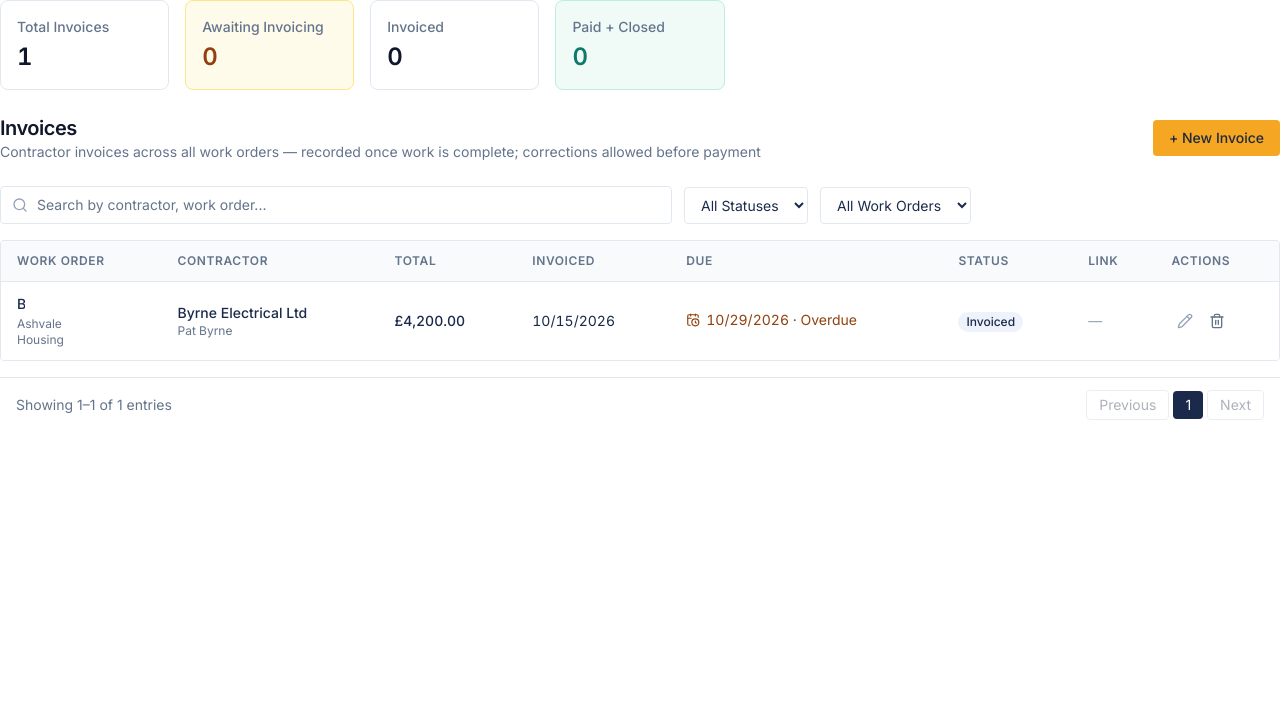
Scenario: AdminInvoicesPage › surfaces the server message when a delete is blocked by work order state
Expected: the text "Byrne Electrical Ltd" is shown, [178,304,307,321]
Step 1. Click the button named "delete invoice for byrne" → [1218, 321], box [1204,307,1232,335]
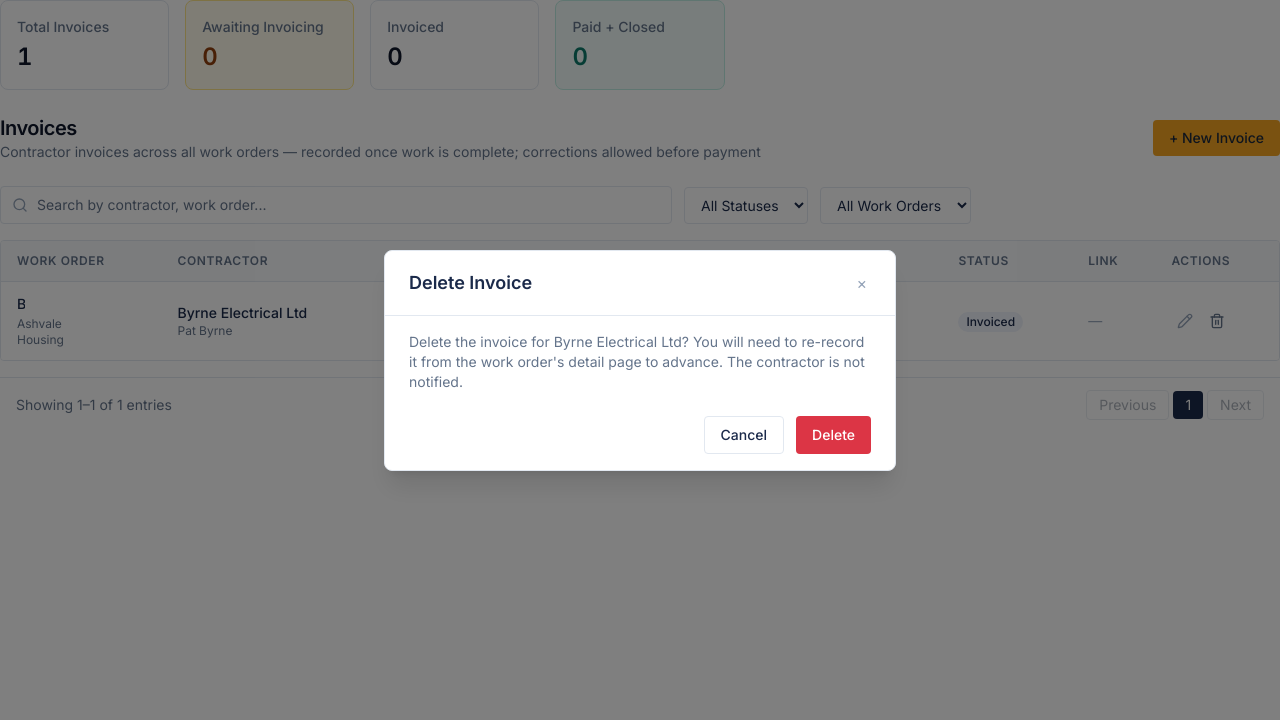
Result: the text "Delete the invoice for Byrne Electrical Ltd?" is shown at [409,332,865,390]
Step 2. Click the button "Delete" → [834, 434], box [796,416,871,454]
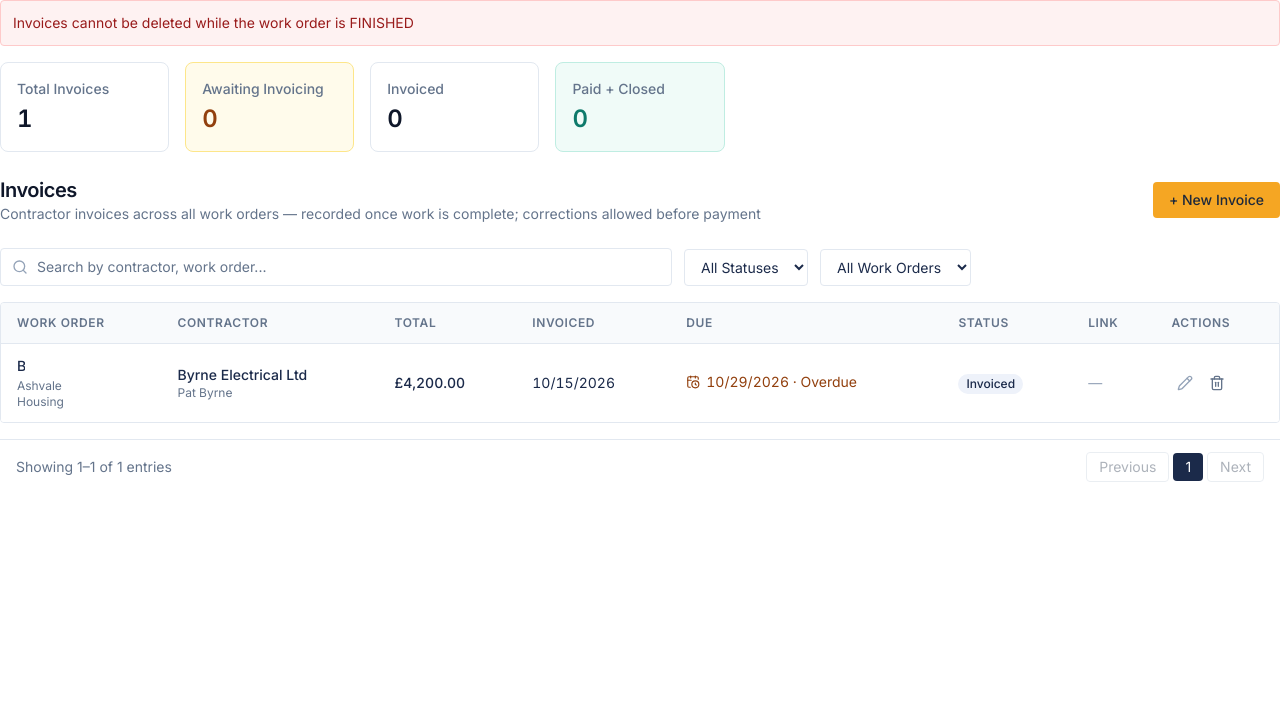
Result: the message shows "cannot be deleted while the work order is FINISHED" at [13,14,414,31]
